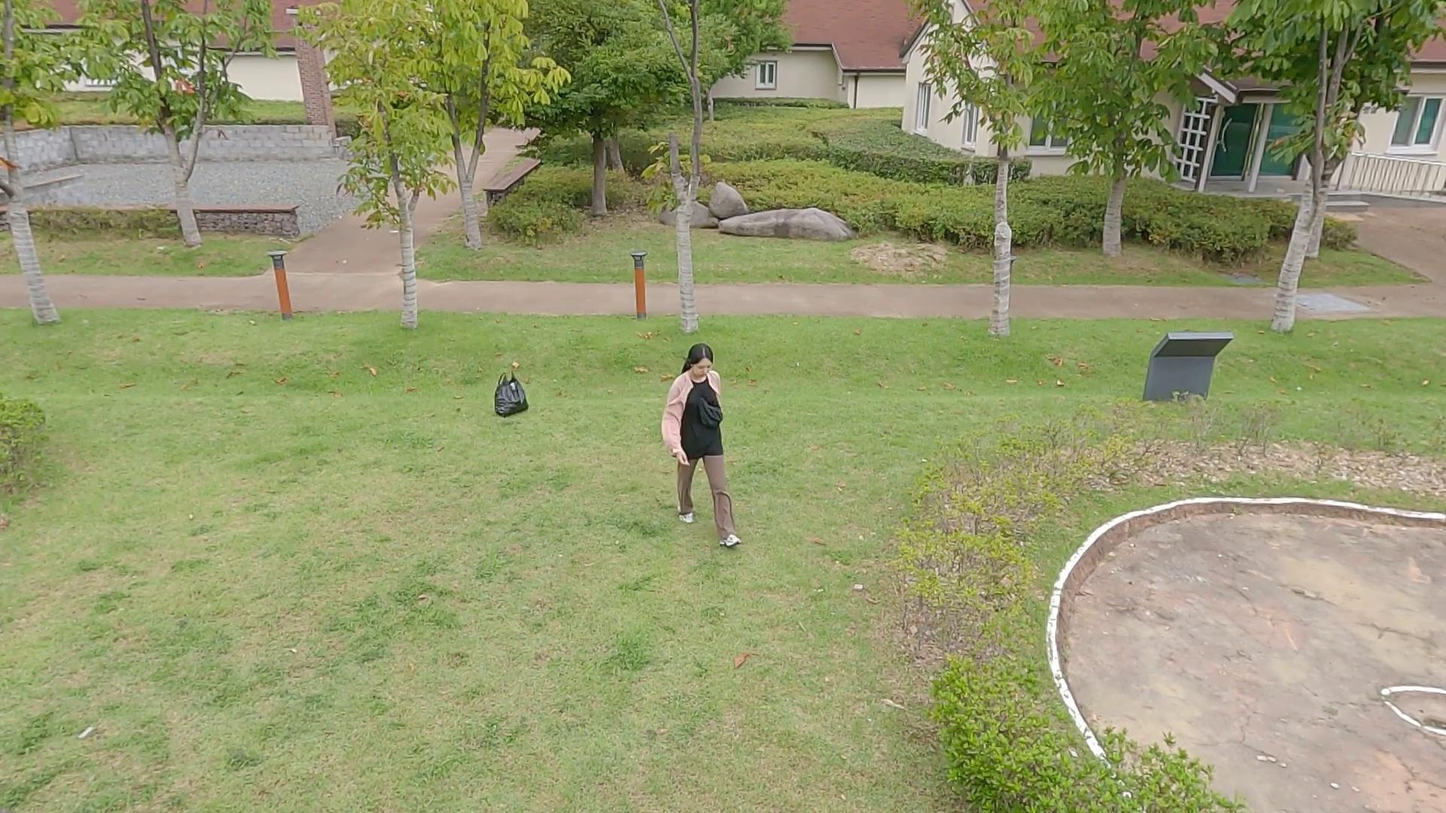person: (660, 337, 748, 554)
trash: (492, 369, 532, 418)
